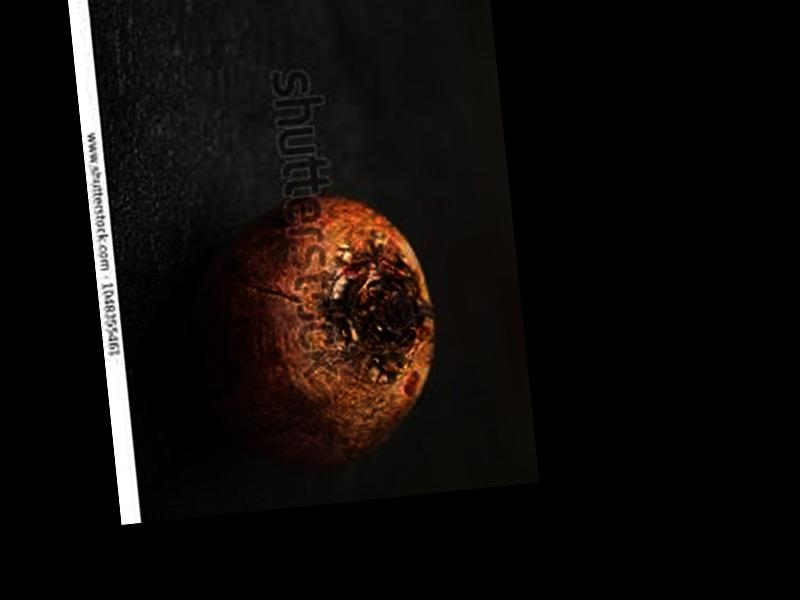Beet: (172, 188, 446, 485)
